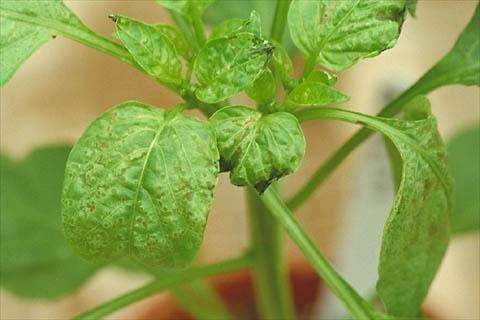Bell_pepper leaf: (59, 90, 219, 283), (366, 96, 453, 320), (208, 104, 310, 206), (287, 1, 412, 72), (104, 12, 188, 95), (191, 30, 277, 110)
